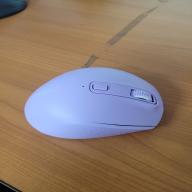mouse: (18, 58, 175, 146)
